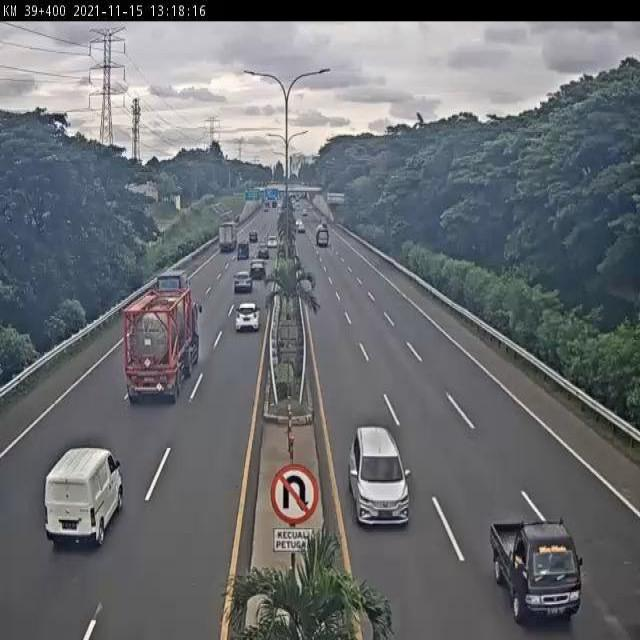bus-s-: (43, 443, 125, 553)
car: (348, 424, 412, 528), (234, 300, 260, 335), (232, 269, 253, 296)
truck-s-: (488, 516, 584, 628), (150, 271, 185, 312)
truck-xl-: (126, 285, 202, 404)
